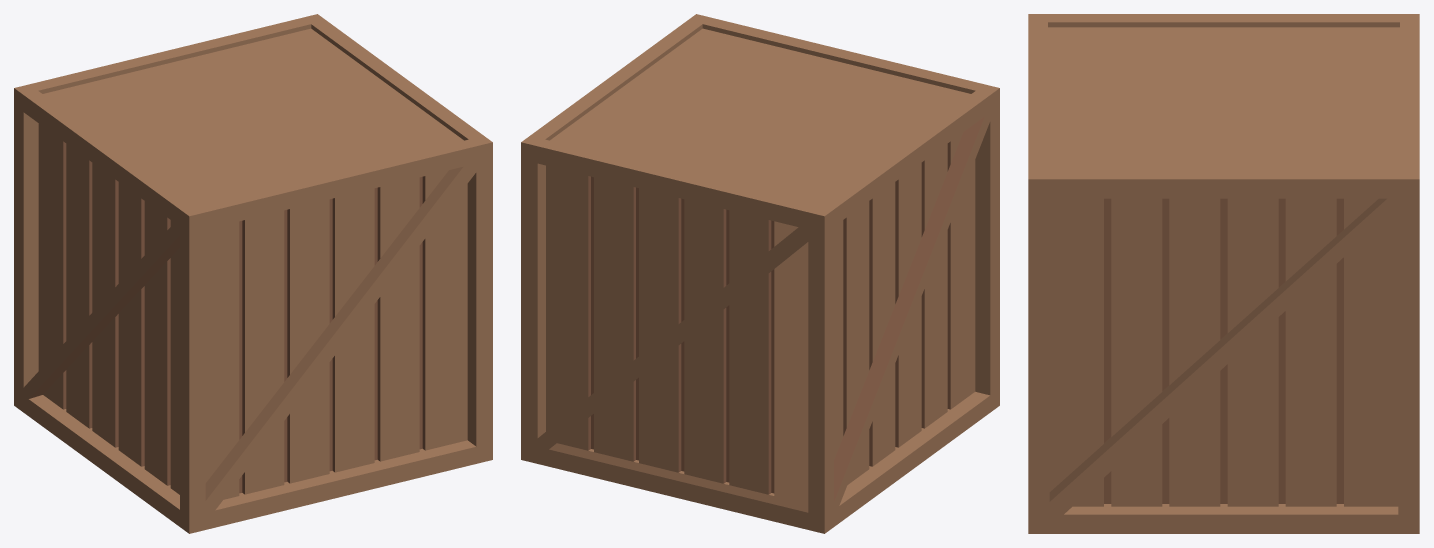
File: crate.fbx
The picture shows the model from 3 angles, left to right: view 1: azimuth 30°, elevation 25°; view 2: azimuth 150°, elevation 25°; view 3: azimuth 270°, elevation 25°; orthographic projection. The views are drawn at different scales.
Parts seen in each view (by area): view 1: Crate; view 2: Crate; view 3: Crate.
Boxes of the visible parts, x1,y1,x2,y2 form: Crate: [14, 14, 492, 533]; Crate: [521, 14, 999, 533]; Crate: [1028, 14, 1419, 533].
Bounding box in the file's own units: 200 × 200 × 200.
